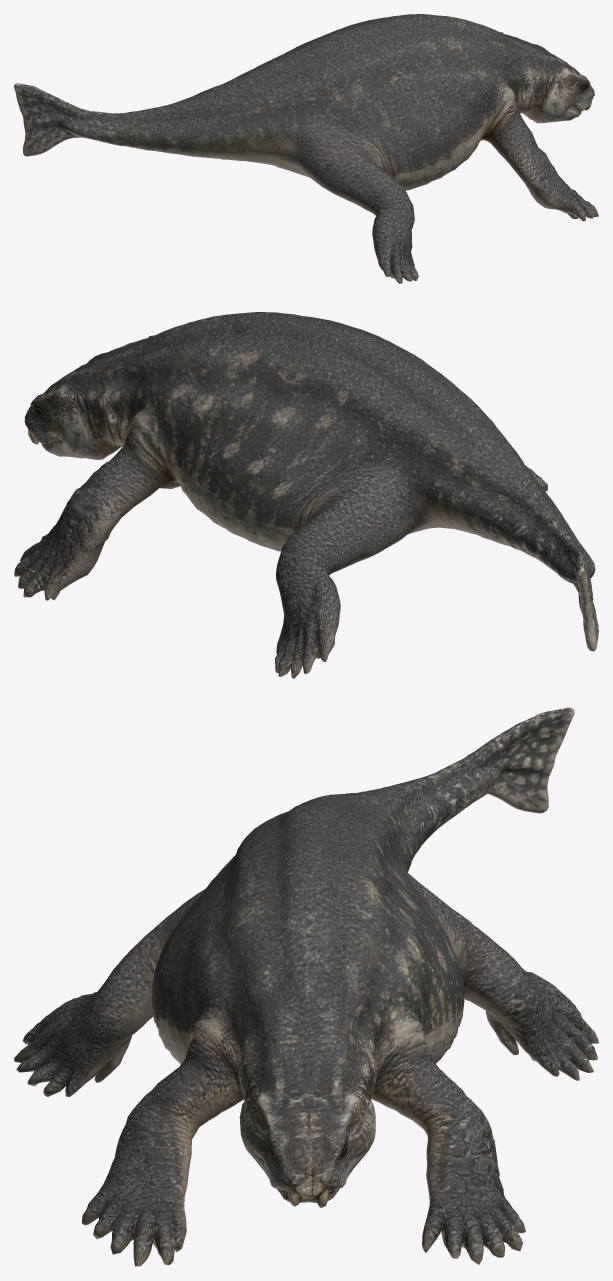
Rendered from placodus.preview.glb.
3 renders of one model, top to bottom at view 1: azimuth 30°, elevation 25°; view 2: azimuth 150°, elevation 25°; view 3: azimuth 270°, elevation 25°, orthographic. The views are drawn at different scales.
Parts seen in each view (by area): view 1: tripo_node_29cee7a9-c253-42f0-8149-d238b9273d2a.001; view 2: tripo_node_29cee7a9-c253-42f0-8149-d238b9273d2a.001; view 3: tripo_node_29cee7a9-c253-42f0-8149-d238b9273d2a.001.
Boxes of the visible parts, box(x1,y1,x2,y2) form: tripo_node_29cee7a9-c253-42f0-8149-d238b9273d2a.001: box(14, 14, 598, 283); tripo_node_29cee7a9-c253-42f0-8149-d238b9273d2a.001: box(14, 312, 598, 678); tripo_node_29cee7a9-c253-42f0-8149-d238b9273d2a.001: box(14, 707, 598, 1266).
Bounding box in the file's own units: 1 × 0.3757 × 0.6488.
1 material, 1 textured.
